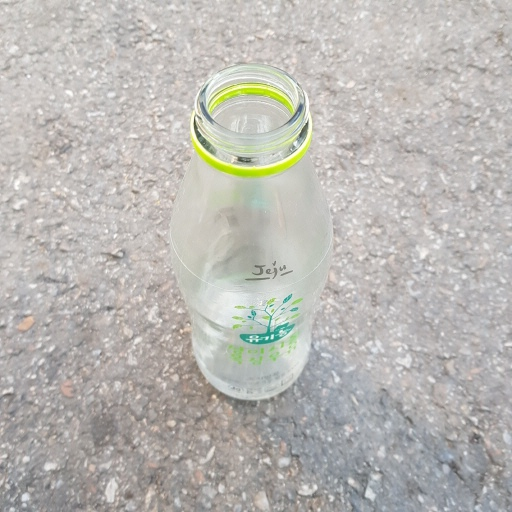Glass_4: (165, 62, 331, 399)
